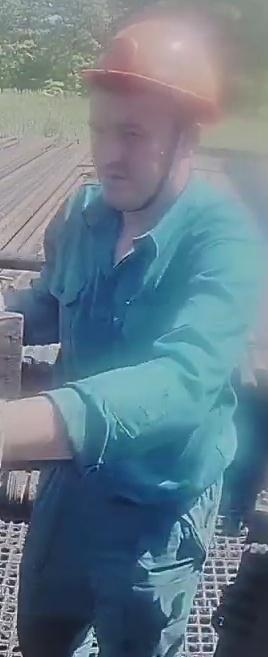helmet: (78, 6, 225, 127)
vest: (39, 179, 260, 520)
